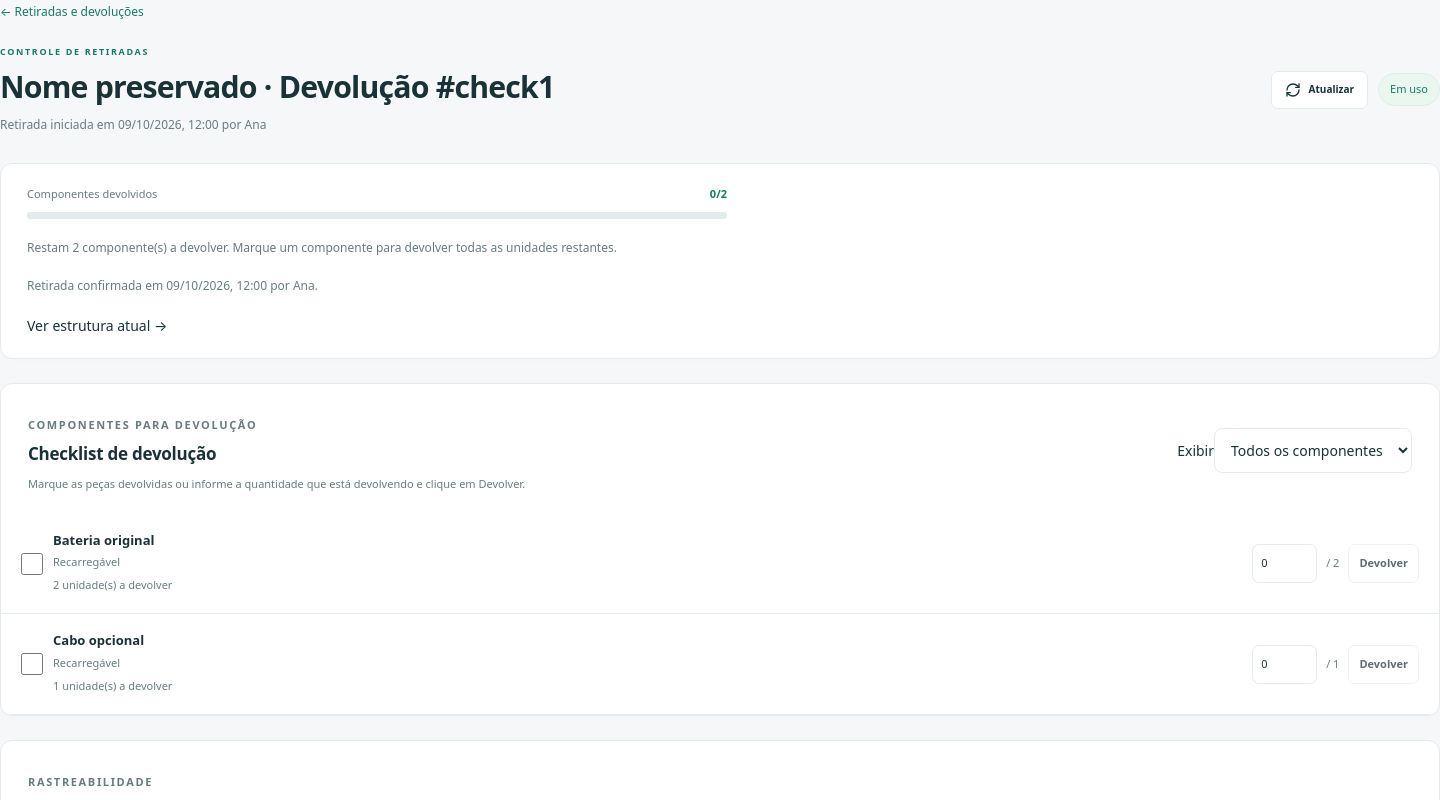
Test: devolve quantidades parciais e itens opcionais até concluir a devolução
The image size is (1440, 800).
Expected: the heading "Checklist de devolução" is shown, [28, 442, 216, 465]
Expected: the text "Em uso" is shown, [1378, 74, 1439, 106]
Replace the text in the number field named "Quantidade a devolver de Bateria original" with "3": (1285, 564) [1252, 544, 1317, 583]
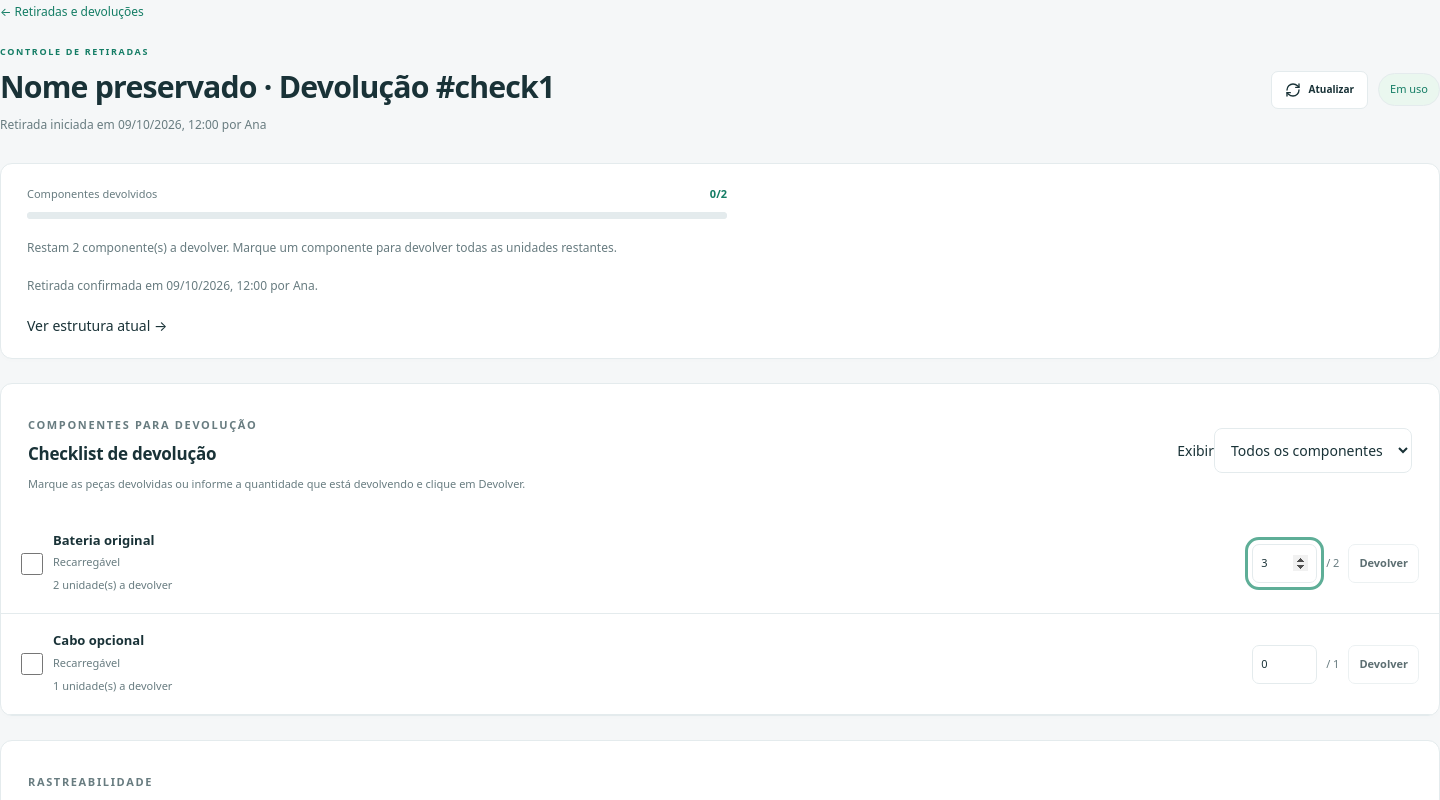
Expected: the button "Devolver" in the row of "2 unidade(s) a devolver" is disabled, [1348, 544, 1419, 583]
Replace the text in the number field named "Quantidade a devolver de Bateria original" with "1": (1285, 564) [1252, 544, 1317, 583]
Click the button "Devolver" in the row of "2 unidade(s) a devolver": (1384, 564) [1348, 544, 1419, 583]
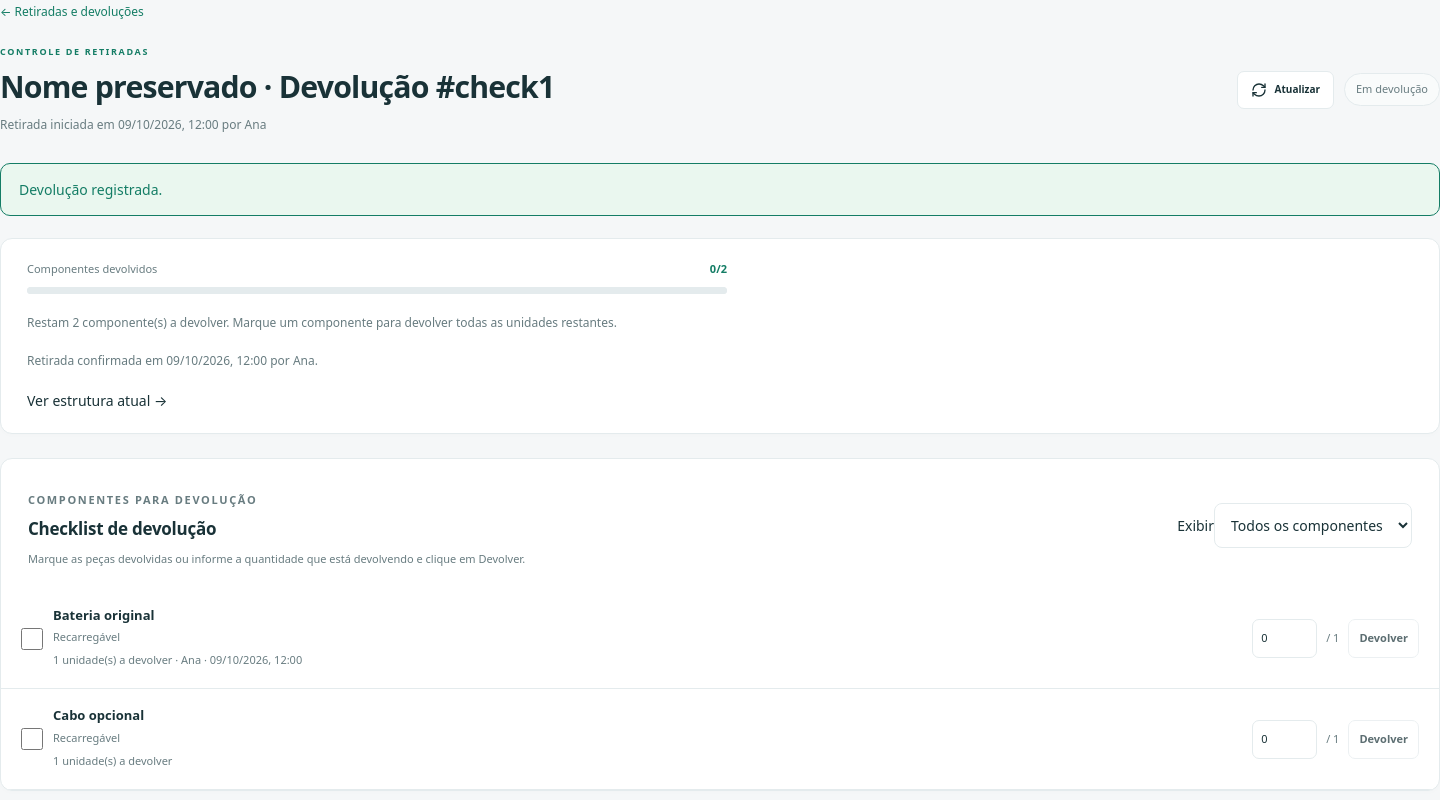
Result: the text "Em devolução" is shown at [1344, 74, 1439, 106]
Result: the number field named "Quantidade a devolver de Bateria original" holds "0" at [1252, 619, 1317, 658]
Click the checkbox named "Devolver Bateria original": (32, 639) [21, 628, 43, 650]
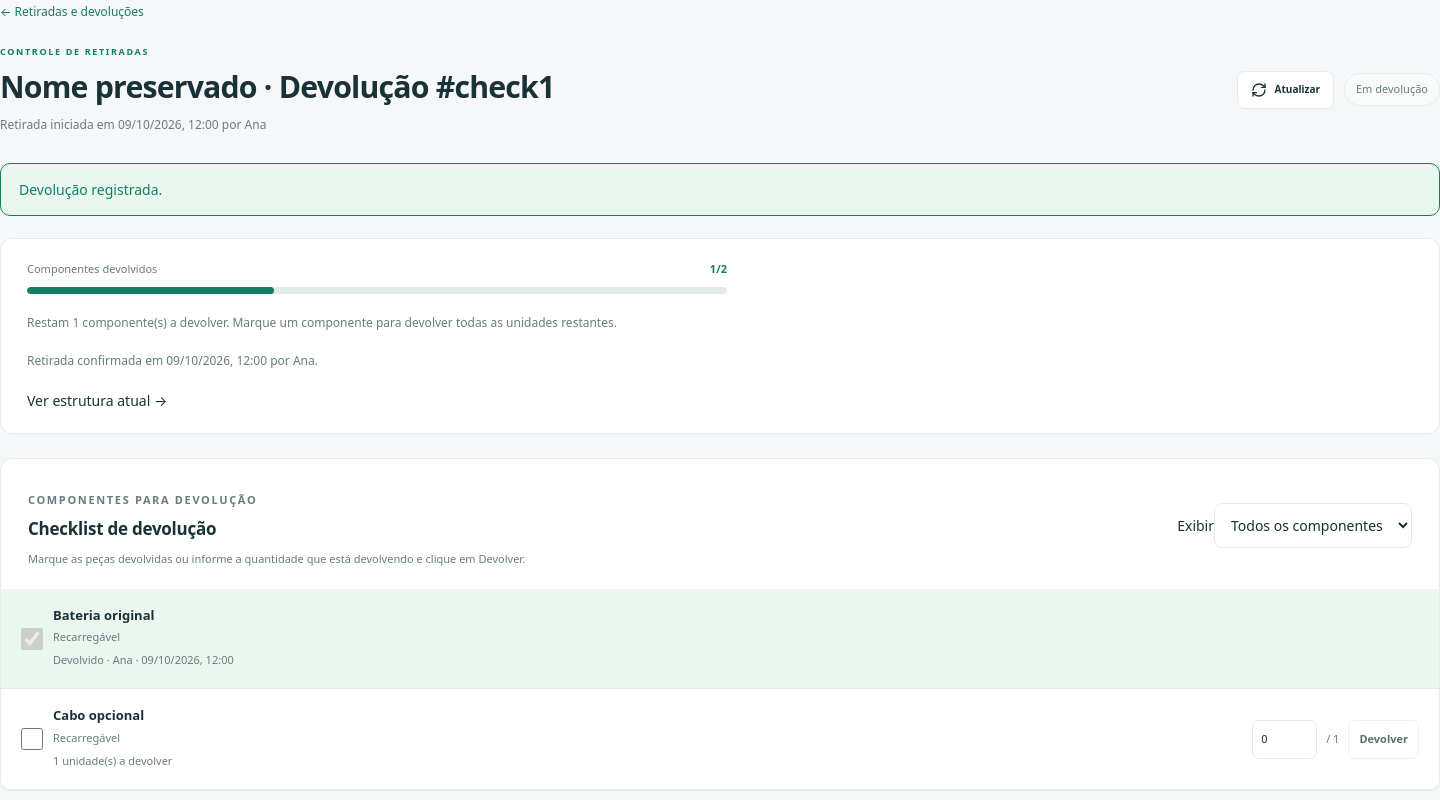
Result: the checkbox named "Devolver Bateria original" is checked at [21, 628, 43, 650]
Result: the checkbox named "Devolver Bateria original" is disabled at [21, 628, 43, 650]
Select "A devolver" in the dropdown labelled "Exibir": (1313, 525) [1214, 503, 1412, 548]
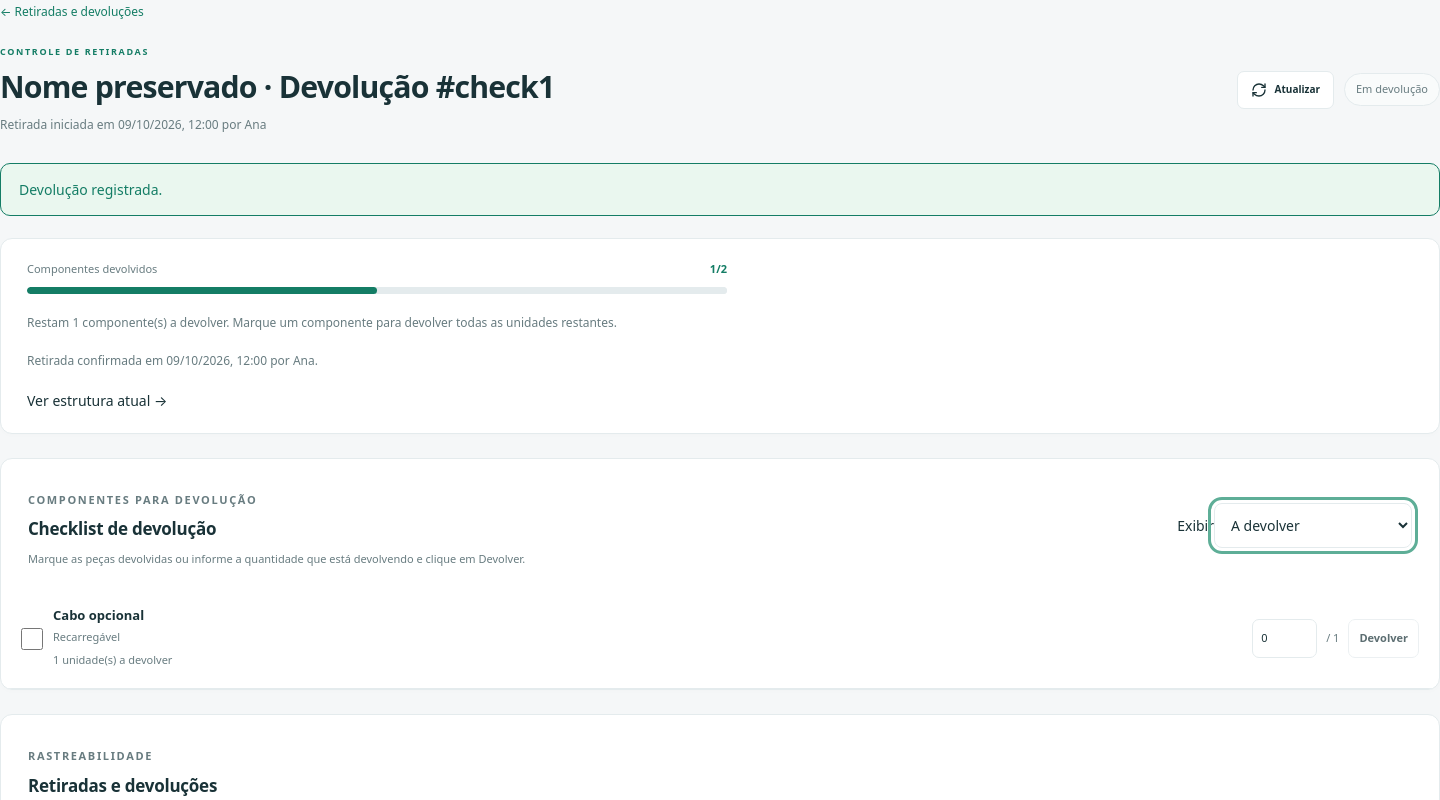
Click the checkbox named "Devolver Cabo opcional": (32, 639) [21, 628, 43, 650]
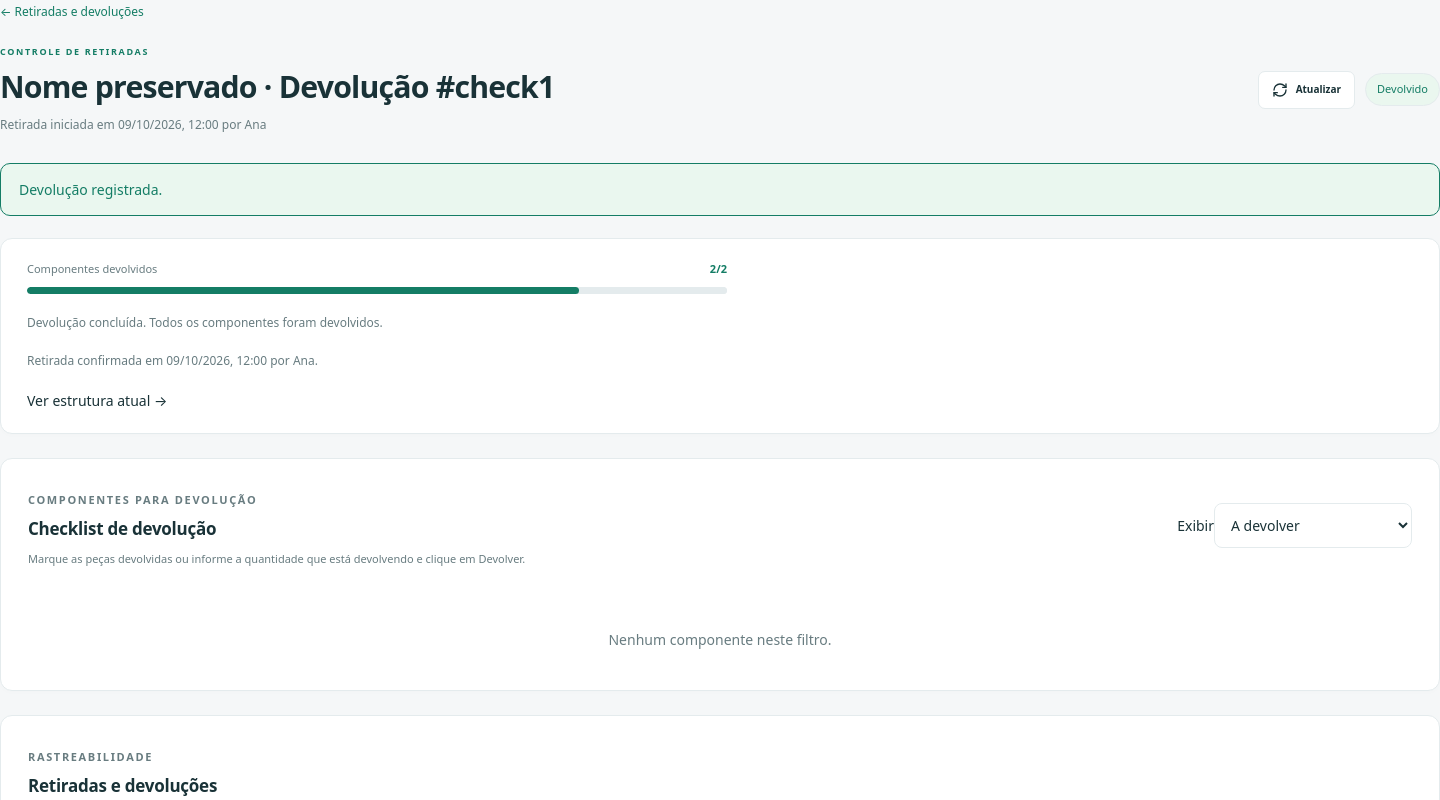
Result: the text "Devolução concluída. Todos os componentes foram devolvidos." is shown at [27, 314, 383, 331]
Result: the text "Devolvido" is shown at [1365, 74, 1439, 106]
Select "Devolvidos" in the dropdown labelled "Exibir": (1313, 525) [1214, 503, 1412, 548]
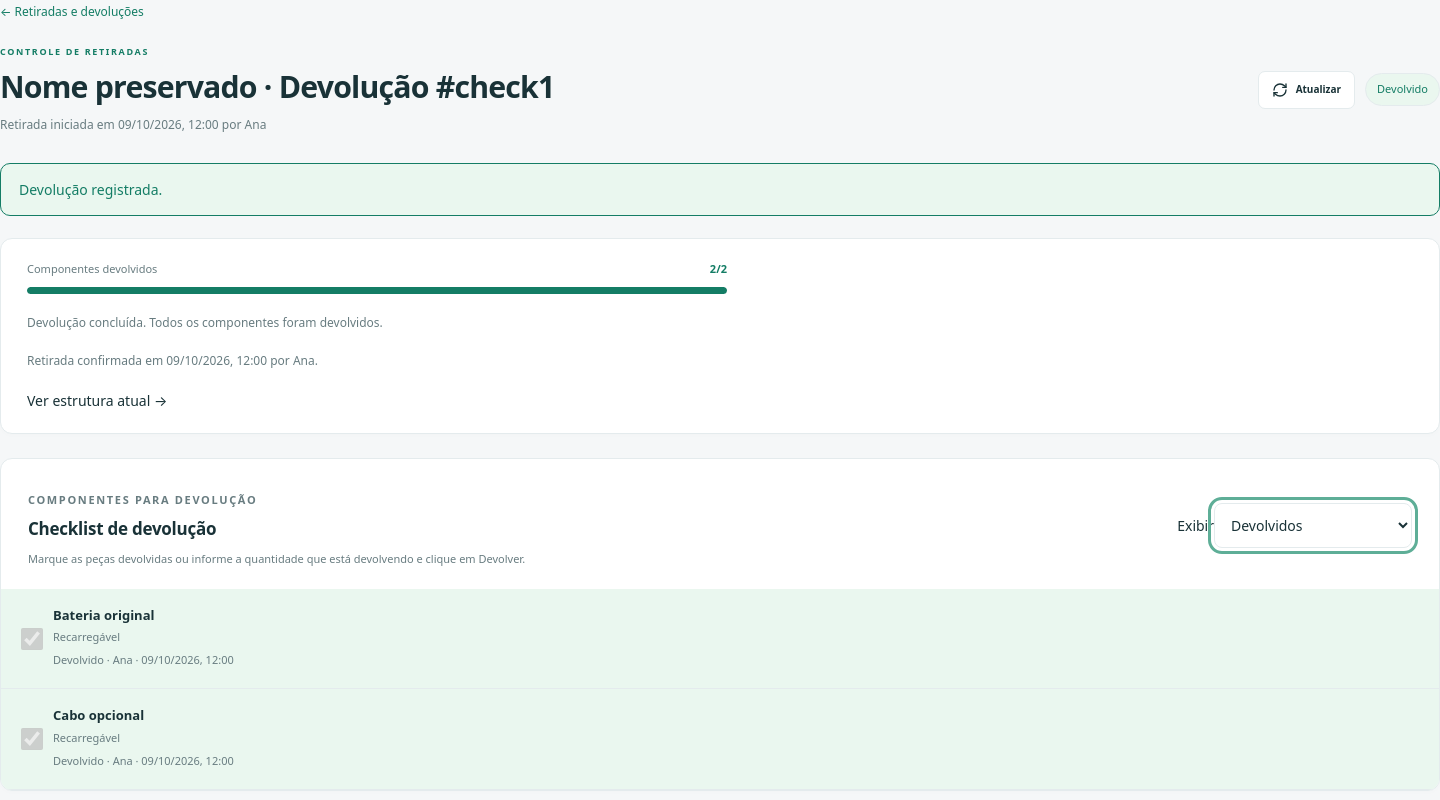
Expected: the button "Devolver" is not shown
Result: the checkbox named "Devolver Cabo opcional" is checked at [21, 728, 43, 750]
Result: the checkbox named "Devolver Cabo opcional" is disabled at [21, 728, 43, 750]
